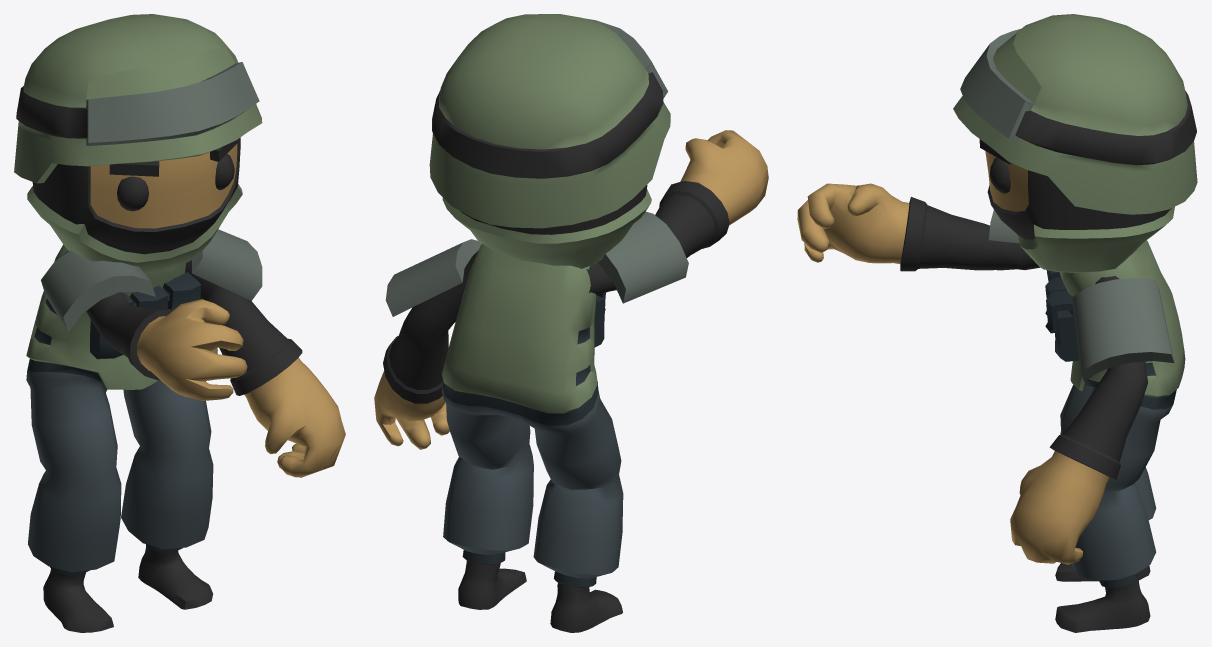
File: tactical-trainee-alpha.glb
3 renders of one model, left to right at view 1: azimuth 30°, elevation 25°; view 2: azimuth 150°, elevation 25°; view 3: azimuth 270°, elevation 25°, orthographic. The views are drawn at different scales.
Visible parts, largest first — view 1: Body.001, Head.001, ShoulderPad.R.001, ShoulderPad.L.001; view 2: Body.001, Head.001, ShoulderPad.R.001, ShoulderPad.L.001; view 3: Body.001, Head.001, ShoulderPad.L.001, ShoulderPad.R.001.
Boxes of the visible parts, bbox=[...] form: Body.001: bbox=[26, 137, 345, 632]; Head.001: bbox=[14, 14, 262, 211]; ShoulderPad.R.001: bbox=[41, 250, 155, 332]; ShoulderPad.L.001: bbox=[192, 229, 262, 300]; Body.001: bbox=[374, 130, 768, 632]; Head.001: bbox=[429, 14, 670, 228]; ShoulderPad.R.001: bbox=[598, 211, 688, 303]; ShoulderPad.L.001: bbox=[385, 239, 481, 316]; Body.001: bbox=[797, 151, 1185, 632]; Head.001: bbox=[953, 14, 1197, 214]; ShoulderPad.L.001: bbox=[1072, 278, 1174, 381]; ShoulderPad.R.001: bbox=[988, 210, 1019, 243].
Size of the model in its own units: 1.19 by 2.22 by 1.42.
